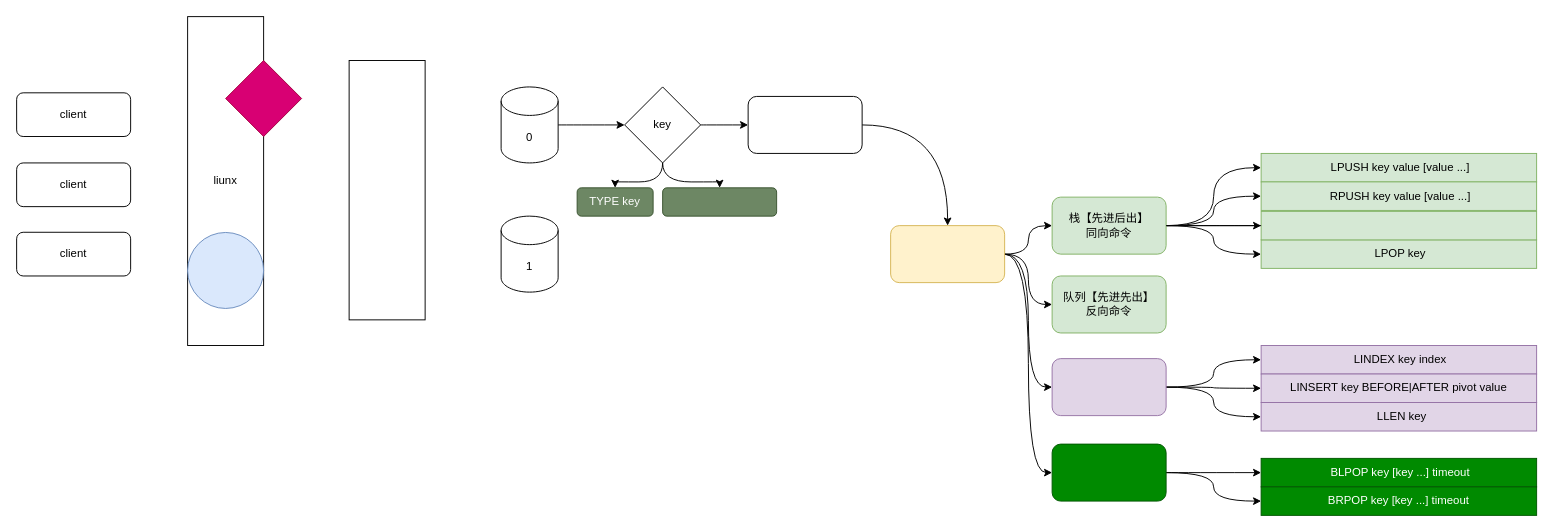
The diagram is 1553 pixels wide and 532 high, and some of its shapes have lost their labels. The centre of each missing label's shape, as x and y in pixels:
epoll: the point at 263,98
kernel: the point at 225,270
list: the point at 947,254
object encoding key: the point at 719,201
port:6379: the point at 386,190
RPOP key: the point at 1398,225
value: the point at 804,124
数组: the point at 1108,387
阻塞 单播队列: the point at 1108,472
